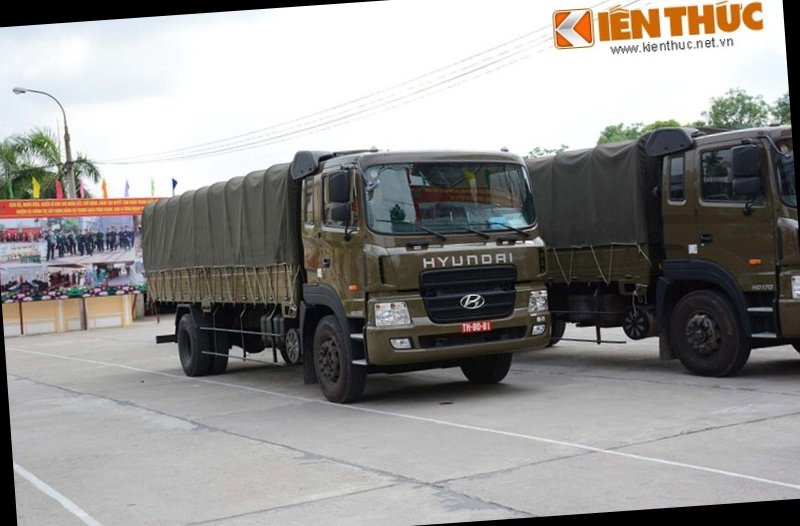plate: (459, 316, 493, 335)
